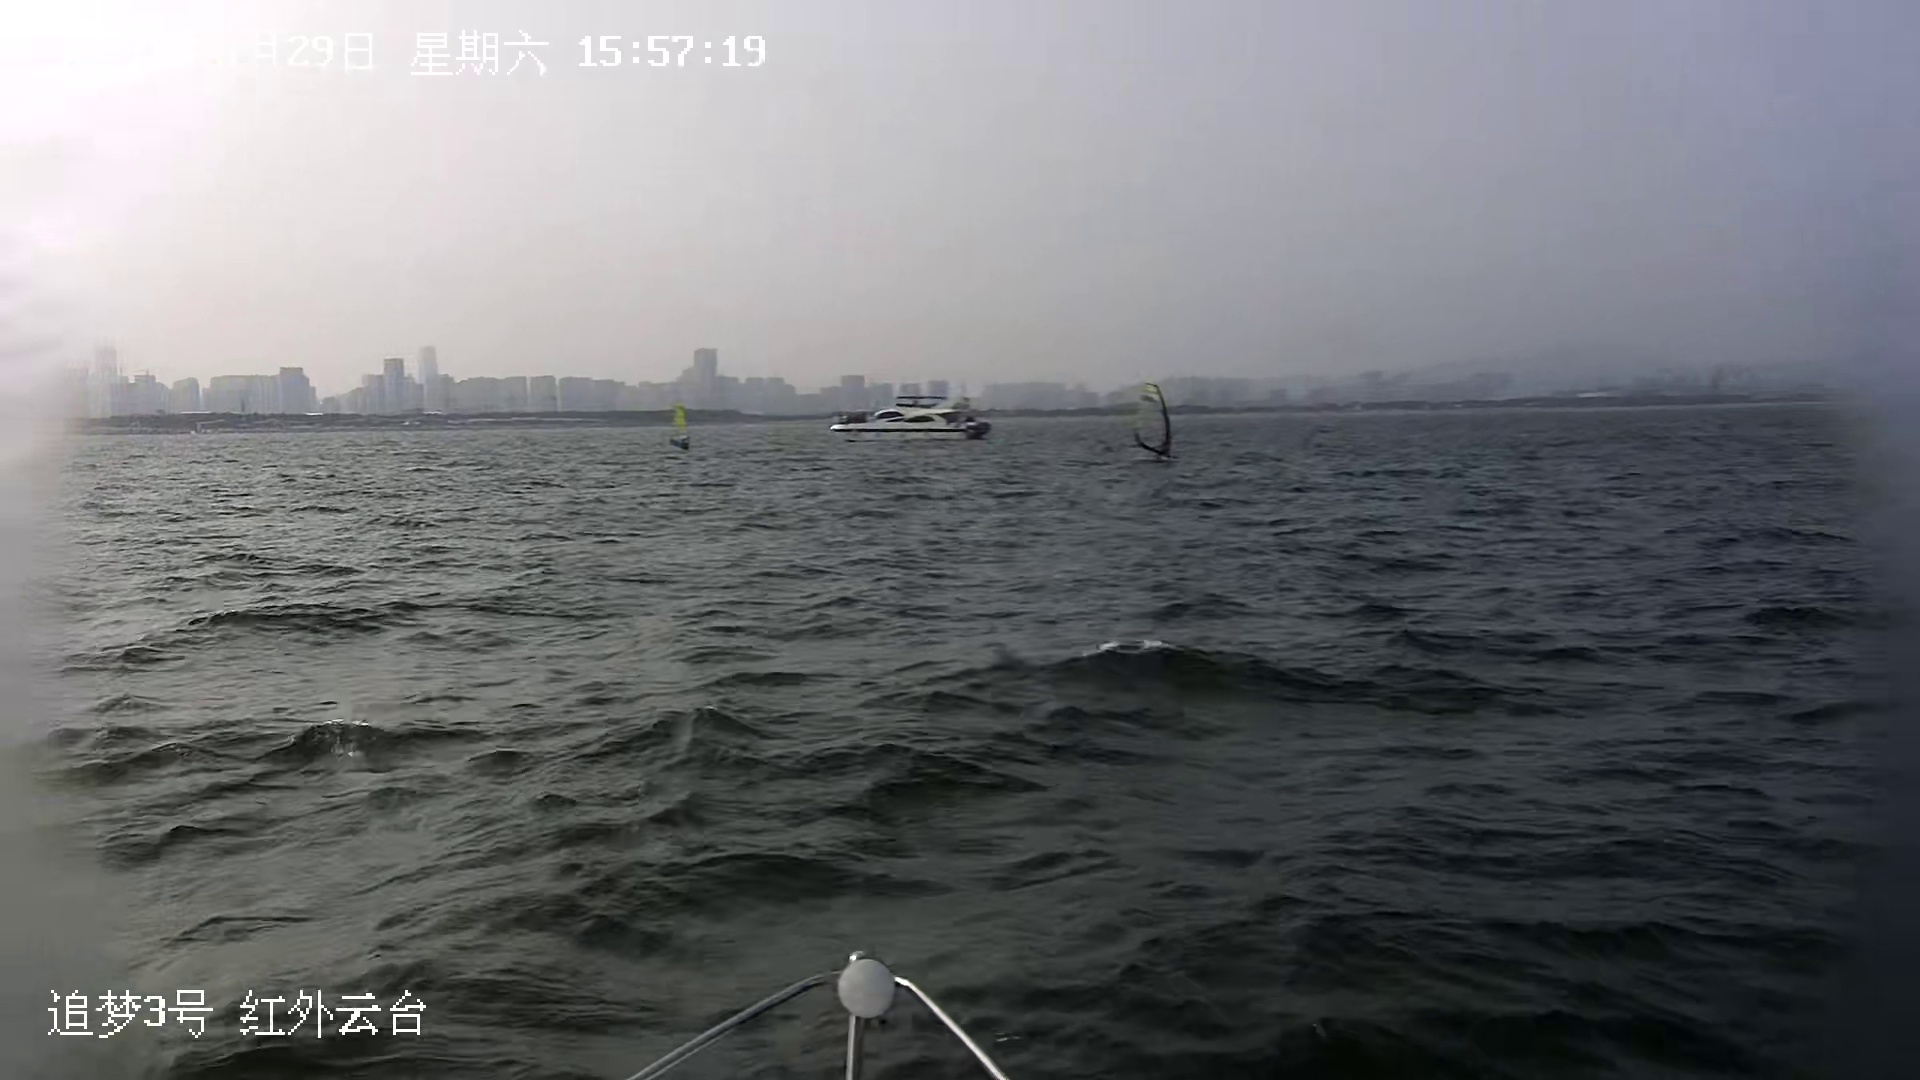barrier: (36, 344, 1905, 425), (829, 393, 992, 440), (1134, 378, 1178, 462), (667, 401, 694, 452)
